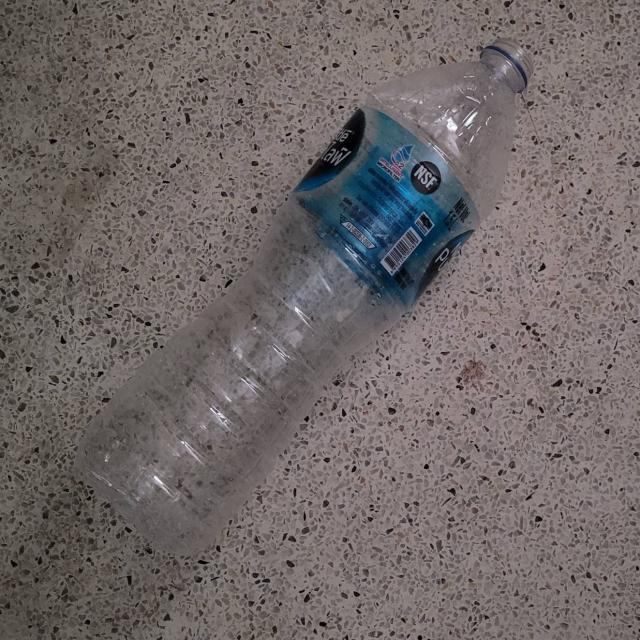plastic_bottle: (67, 30, 550, 567)
